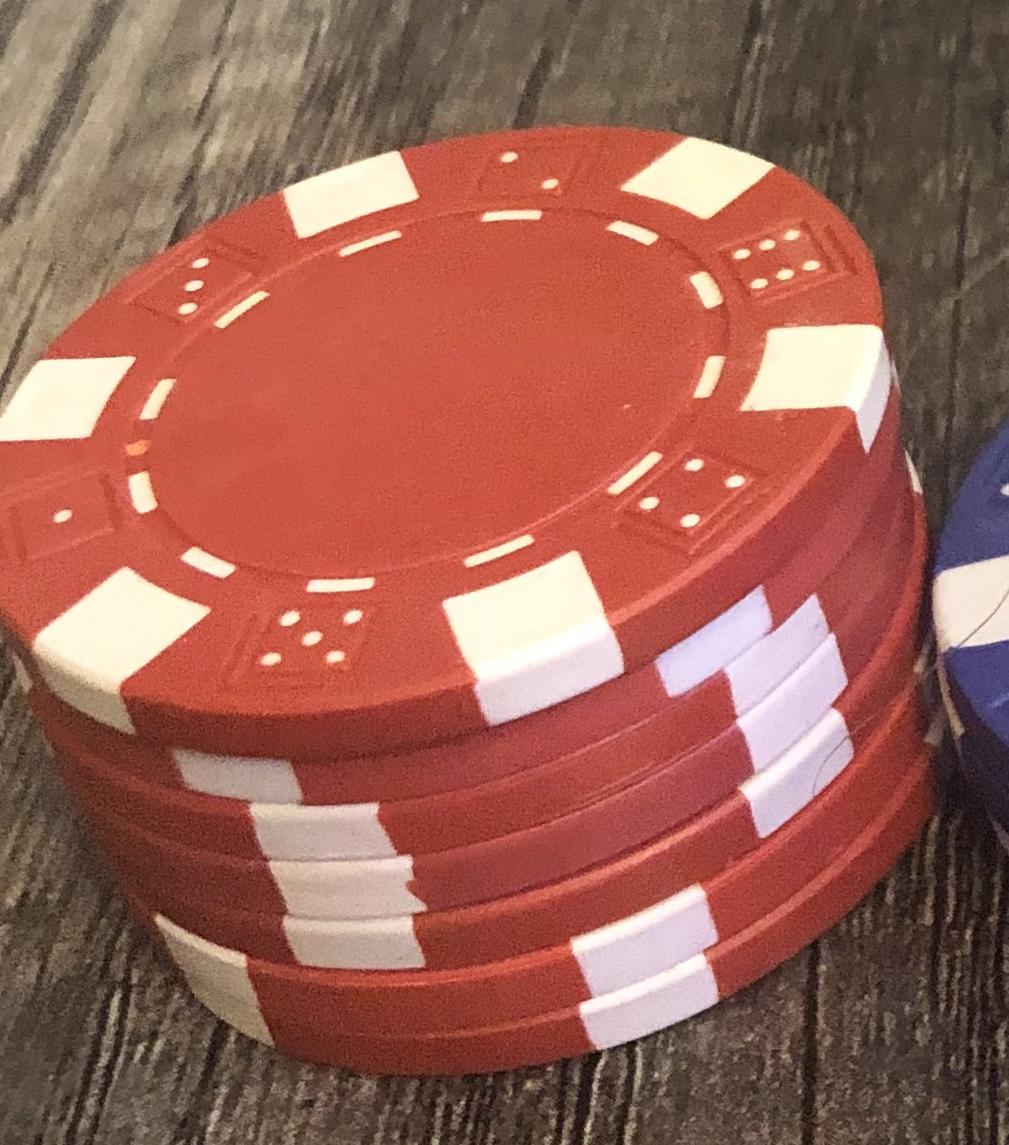Chip: (1, 1, 1009, 1145)
